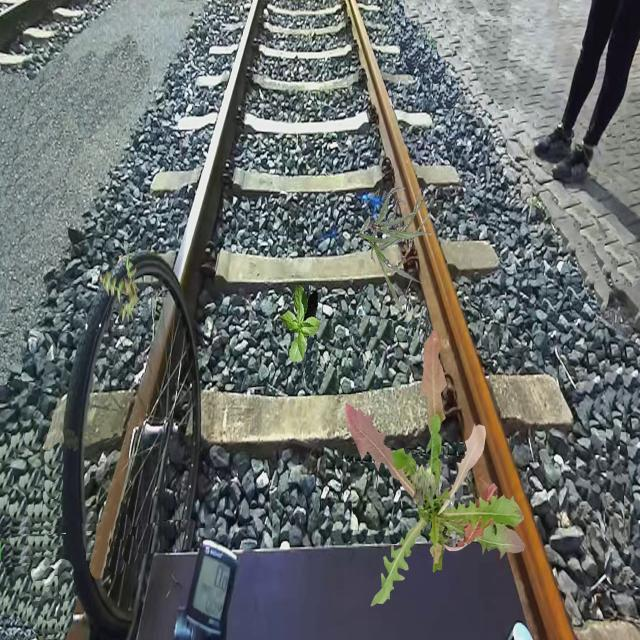Plant: (346, 329, 526, 607), (359, 188, 432, 312), (279, 282, 321, 362), (99, 251, 140, 322), (413, 463, 439, 506)
